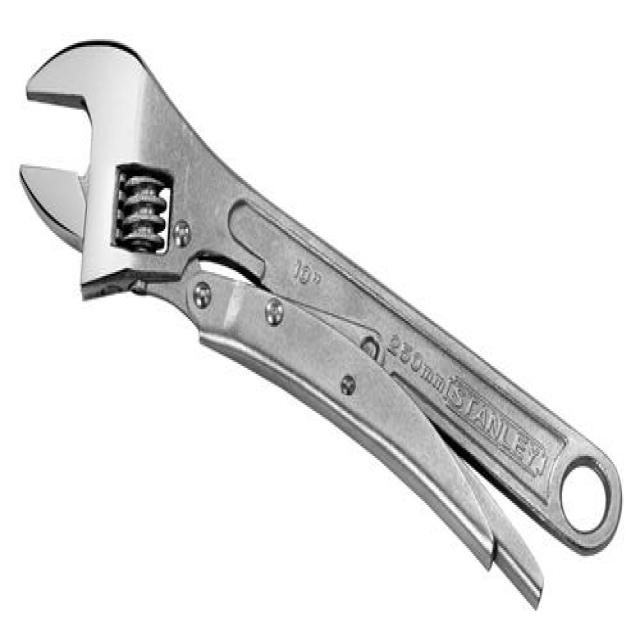wrench: (9, 10, 640, 640)
